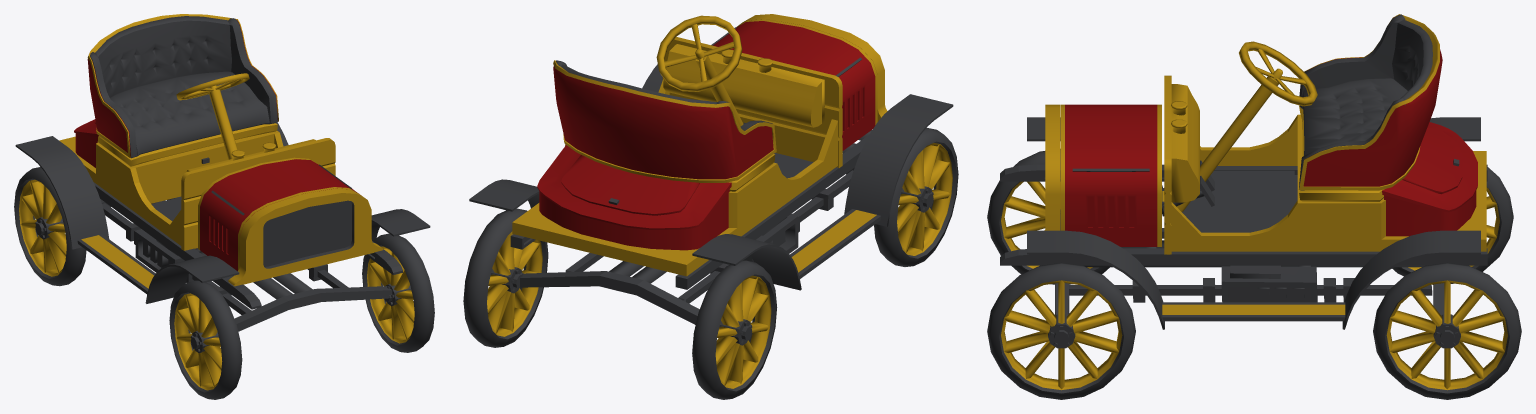
The model's file is Car_3.fbx.
3 renders of one model, left to right at view 1: azimuth 30°, elevation 25°; view 2: azimuth 150°, elevation 25°; view 3: azimuth 270°, elevation 25°, orthographic. The views are drawn at different scales.
Visible parts, largest first — view 1: 3_Car_BaseModel, 3_Car_FrontRight, 3_Car_FrontLeft, 3_Car_BackRight; view 2: 3_Car_BaseModel, 3_Car_BackRight, 3_Car_LeftBack, 3_Car_FrontRight; view 3: 3_Car_BaseModel, 3_Car_FrontLeft, 3_Car_LeftBack, 3_Car_FrontRight, 3_Car_BackRight.
Boxes of the visible parts, x1,y1,x2,y2 form: 3_Car_BaseModel: (15, 14, 430, 331); 3_Car_FrontRight: (169, 280, 242, 399); 3_Car_FrontLeft: (362, 233, 434, 352); 3_Car_BackRight: (14, 167, 86, 286); 3_Car_BaseModel: (469, 14, 953, 324); 3_Car_BackRight: (692, 260, 777, 399); 3_Car_LeftBack: (463, 208, 548, 347); 3_Car_FrontRight: (874, 127, 958, 266); 3_Car_BaseModel: (1000, 14, 1487, 329); 3_Car_FrontLeft: (987, 262, 1135, 399); 3_Car_LeftBack: (1373, 262, 1521, 399); 3_Car_FrontRight: (987, 149, 1109, 284); 3_Car_BackRight: (1392, 167, 1513, 283).
Size of the model in its own units: 199 by 201 by 333.
